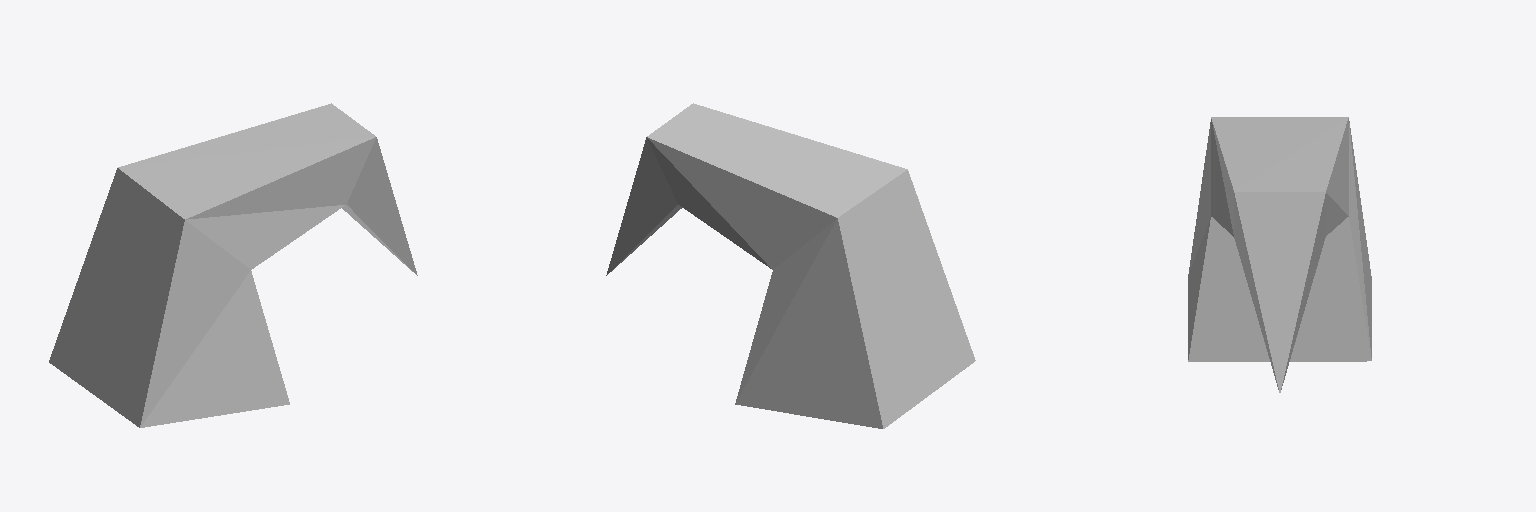
File: skeletal_000025.obj
3 renders of one model, left to right at view 1: azimuth 30°, elevation 25°; view 2: azimuth 150°, elevation 25°; view 3: azimuth 270°, elevation 25°, orthographic.
Parts seen in each view (by area): view 1: Cube; view 2: Cube; view 3: Cube.
Boxes of the visible parts, <box> form: Cube: <box>49,103,417,427</box>; Cube: <box>606,103,975,428</box>; Cube: <box>1188,117,1371,392</box>.
Bounding box in the file's own units: 4.08 × 2.69 × 2.